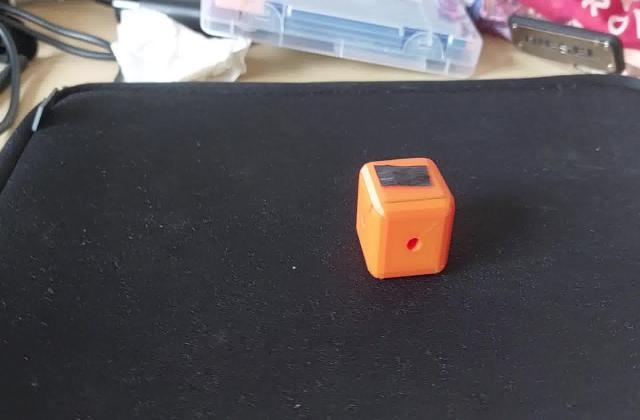black: (373, 161, 437, 194)
cube: (350, 154, 456, 285)
